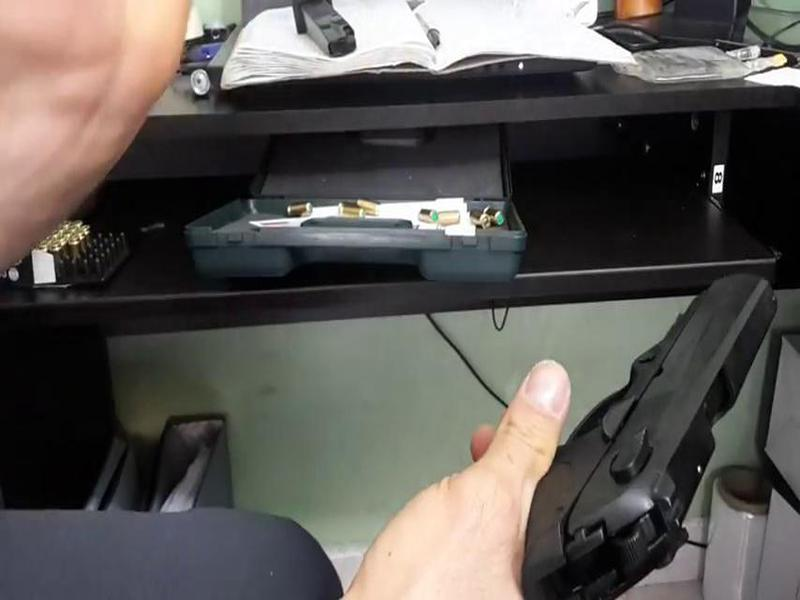Pistola: (508, 274, 779, 600)
